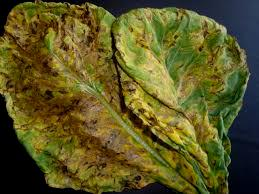Bok-Choy-Diseased: (0, 3, 239, 193)
